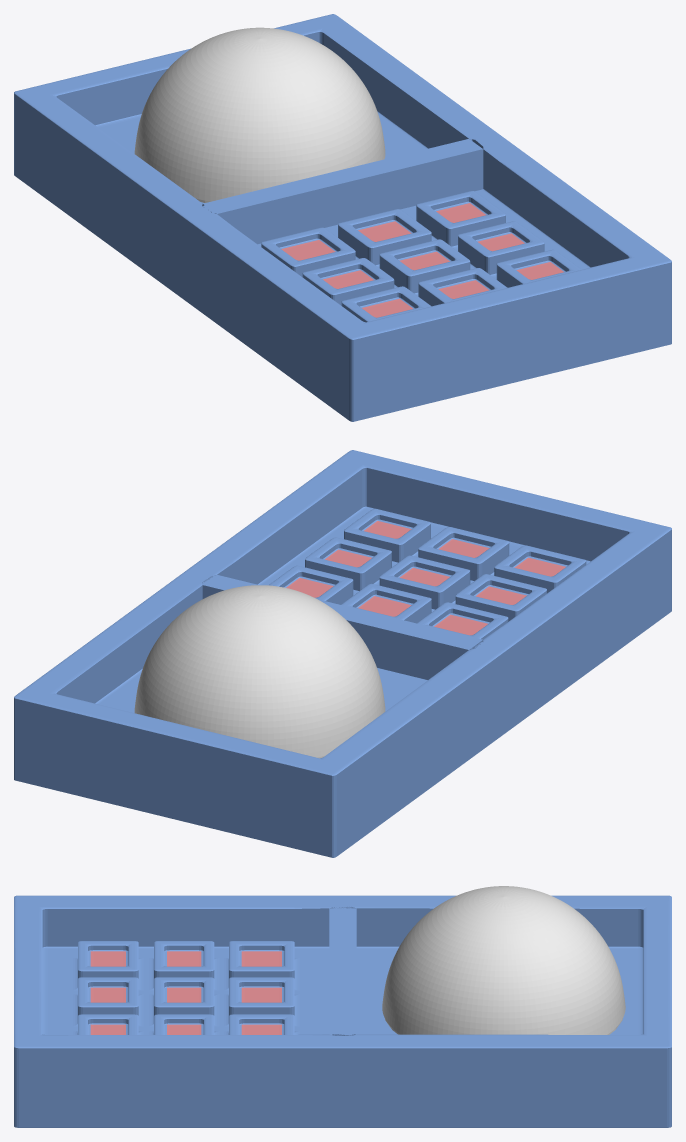
The model's file is Energy Detector.fbx.
The picture shows the model from 3 angles, top to bottom: view 1: azimuth 30°, elevation 25°; view 2: azimuth 150°, elevation 25°; view 3: azimuth 270°, elevation 25°; orthographic projection. The views are drawn at different scales.
Visible parts, largest first — view 1: Cube.002, Cylinder.019, Cube.004, Cube.005; view 2: Cube.002, Cylinder.019, Cube.004, Cube.005; view 3: Cube.002, Cylinder.019, Cube.004, Cube.005, Cube.010, Cube.011, Cube.007, Cube.008, Cube.006, Cube.012, Cube.009.
Boxes of the visible parts, left/top/right/bottom form: Cube.002: left=14, top=14, right=671, bottom=421; Cylinder.019: left=134, top=27, right=385, bottom=201; Cube.004: left=281, top=240, right=335, bottom=260; Cube.005: left=358, top=221, right=411, bottom=241; Cube.002: left=14, top=450, right=671, bottom=857; Cylinder.019: left=134, top=585, right=385, bottom=757; Cube.004: left=434, top=614, right=487, bottom=635; Cube.005: left=358, top=596, right=411, bottom=616; Cube.002: left=14, top=895, right=671, bottom=1127; Cylinder.019: left=382, top=886, right=625, bottom=1034; Cube.004: left=241, top=951, right=281, bottom=966; Cube.005: left=241, top=987, right=281, bottom=1002; Cube.010: left=90, top=951, right=125, bottom=966; Cube.011: left=90, top=987, right=125, bottom=1002; Cube.007: left=167, top=951, right=201, bottom=966; Cube.008: left=167, top=987, right=201, bottom=1002; Cube.006: left=241, top=1024, right=281, bottom=1034; Cube.012: left=90, top=1024, right=125, bottom=1034; Cube.009: left=167, top=1024, right=201, bottom=1034.
Size of the model in its own units: 110 by 52.1 by 200.
